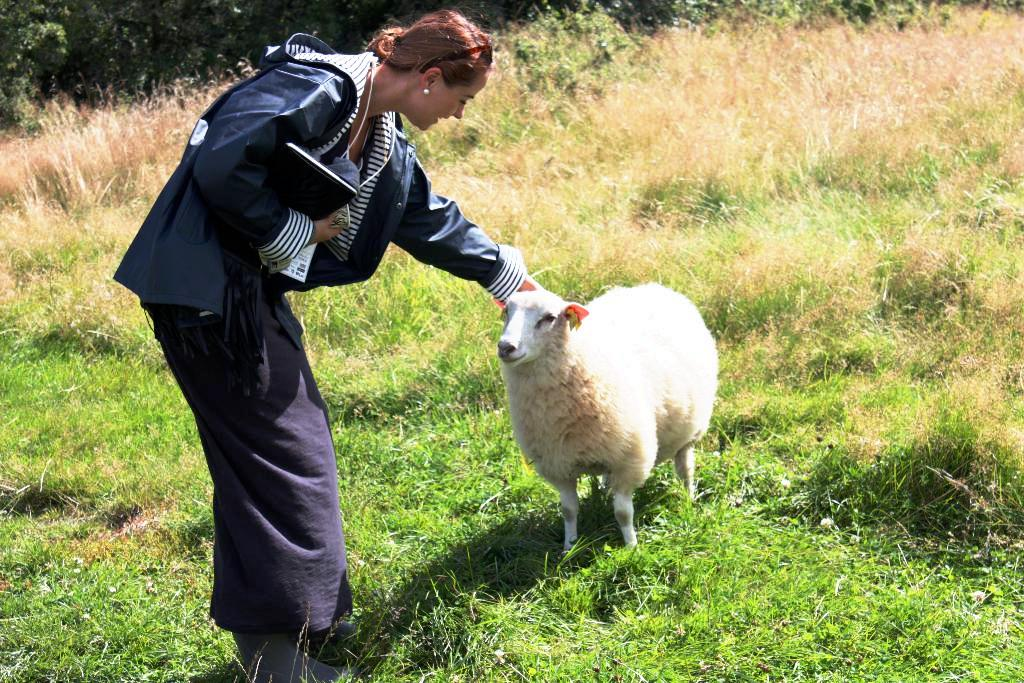Sheep: (494, 287, 720, 559)
